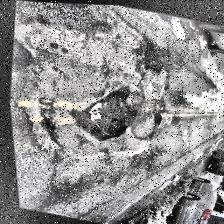pothole: (65, 74, 149, 148), (150, 109, 162, 125)
